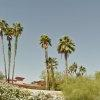Tree: (34, 26, 86, 78)
